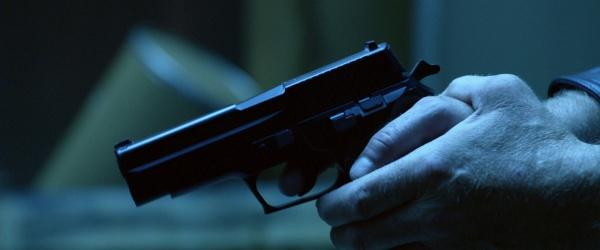Gun: (115, 40, 440, 213)
